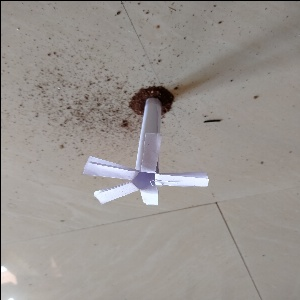weed: (82, 94, 212, 206)
